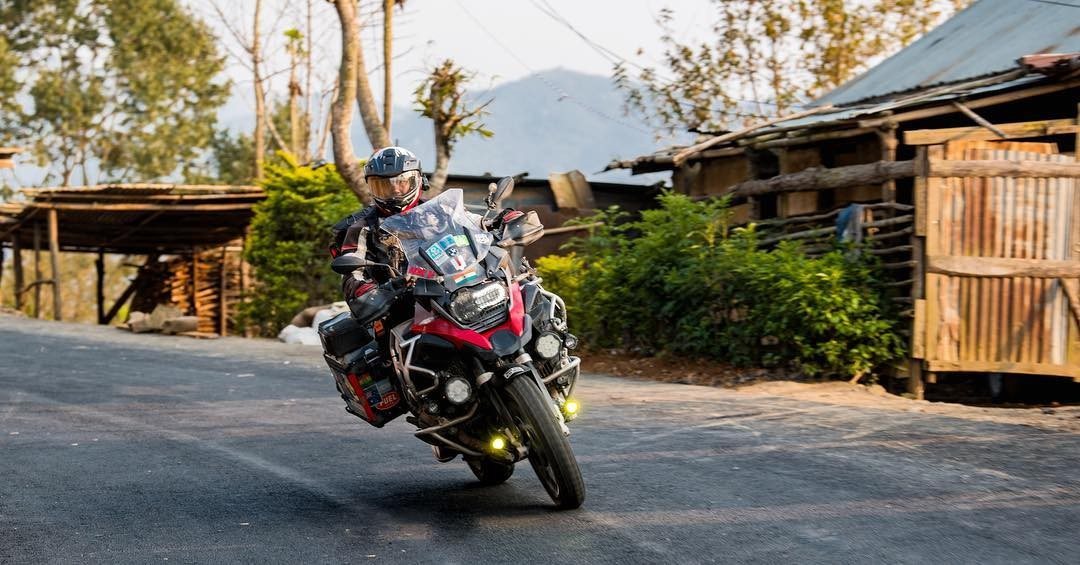helmet: (350, 138, 441, 224)
